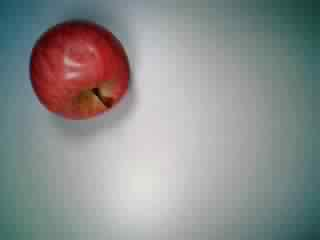apple: (30, 19, 134, 120)
